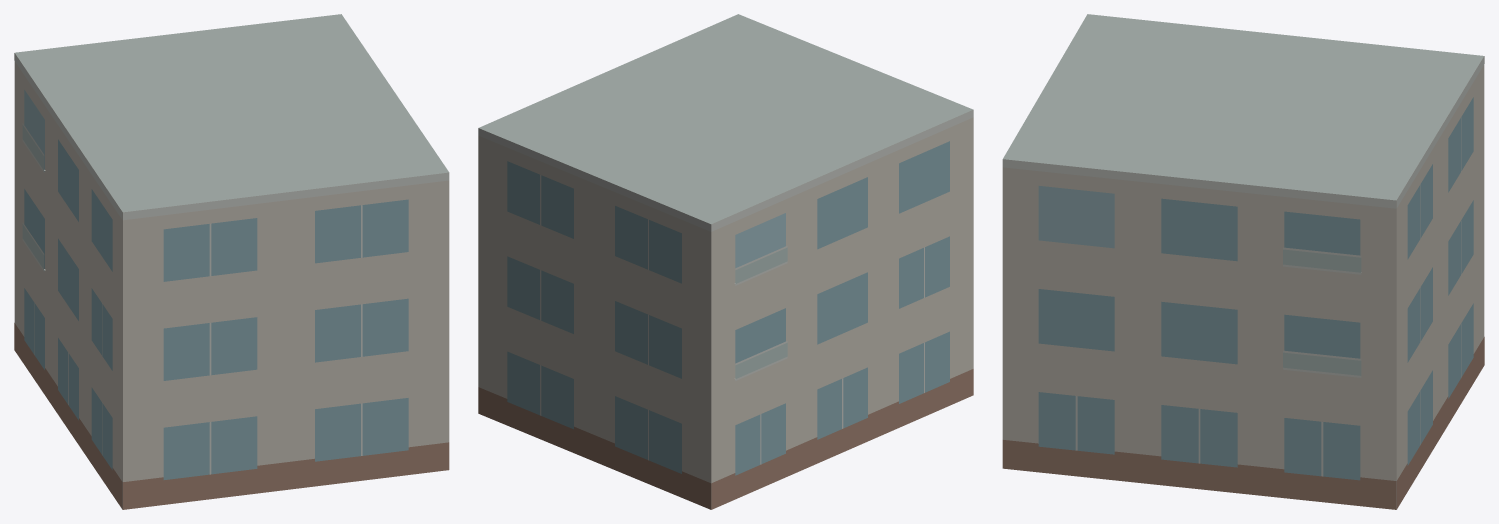
The model's file is survey-upis-32492002.glb.
3 renders of one model, left to right at view 1: azimuth 30°, elevation 25°; view 2: azimuth 150°, elevation 25°; view 3: azimuth 270°, elevation 25°, orthographic. The views are drawn at different scales.
Parts seen in each view (by area): view 1: survey-upis-32492002.tmp; view 2: survey-upis-32492002.tmp; view 3: survey-upis-32492002.tmp.
Part boxes in pixels (x1=…): survey-upis-32492002.tmp: x1=14, y1=14, x2=449, y2=509; survey-upis-32492002.tmp: x1=478, y1=14, x2=973, y2=509; survey-upis-32492002.tmp: x1=1002, y1=14, x2=1484, y2=509.
Size of the model in its own units: 11.84 by 9.15 by 12.92.
